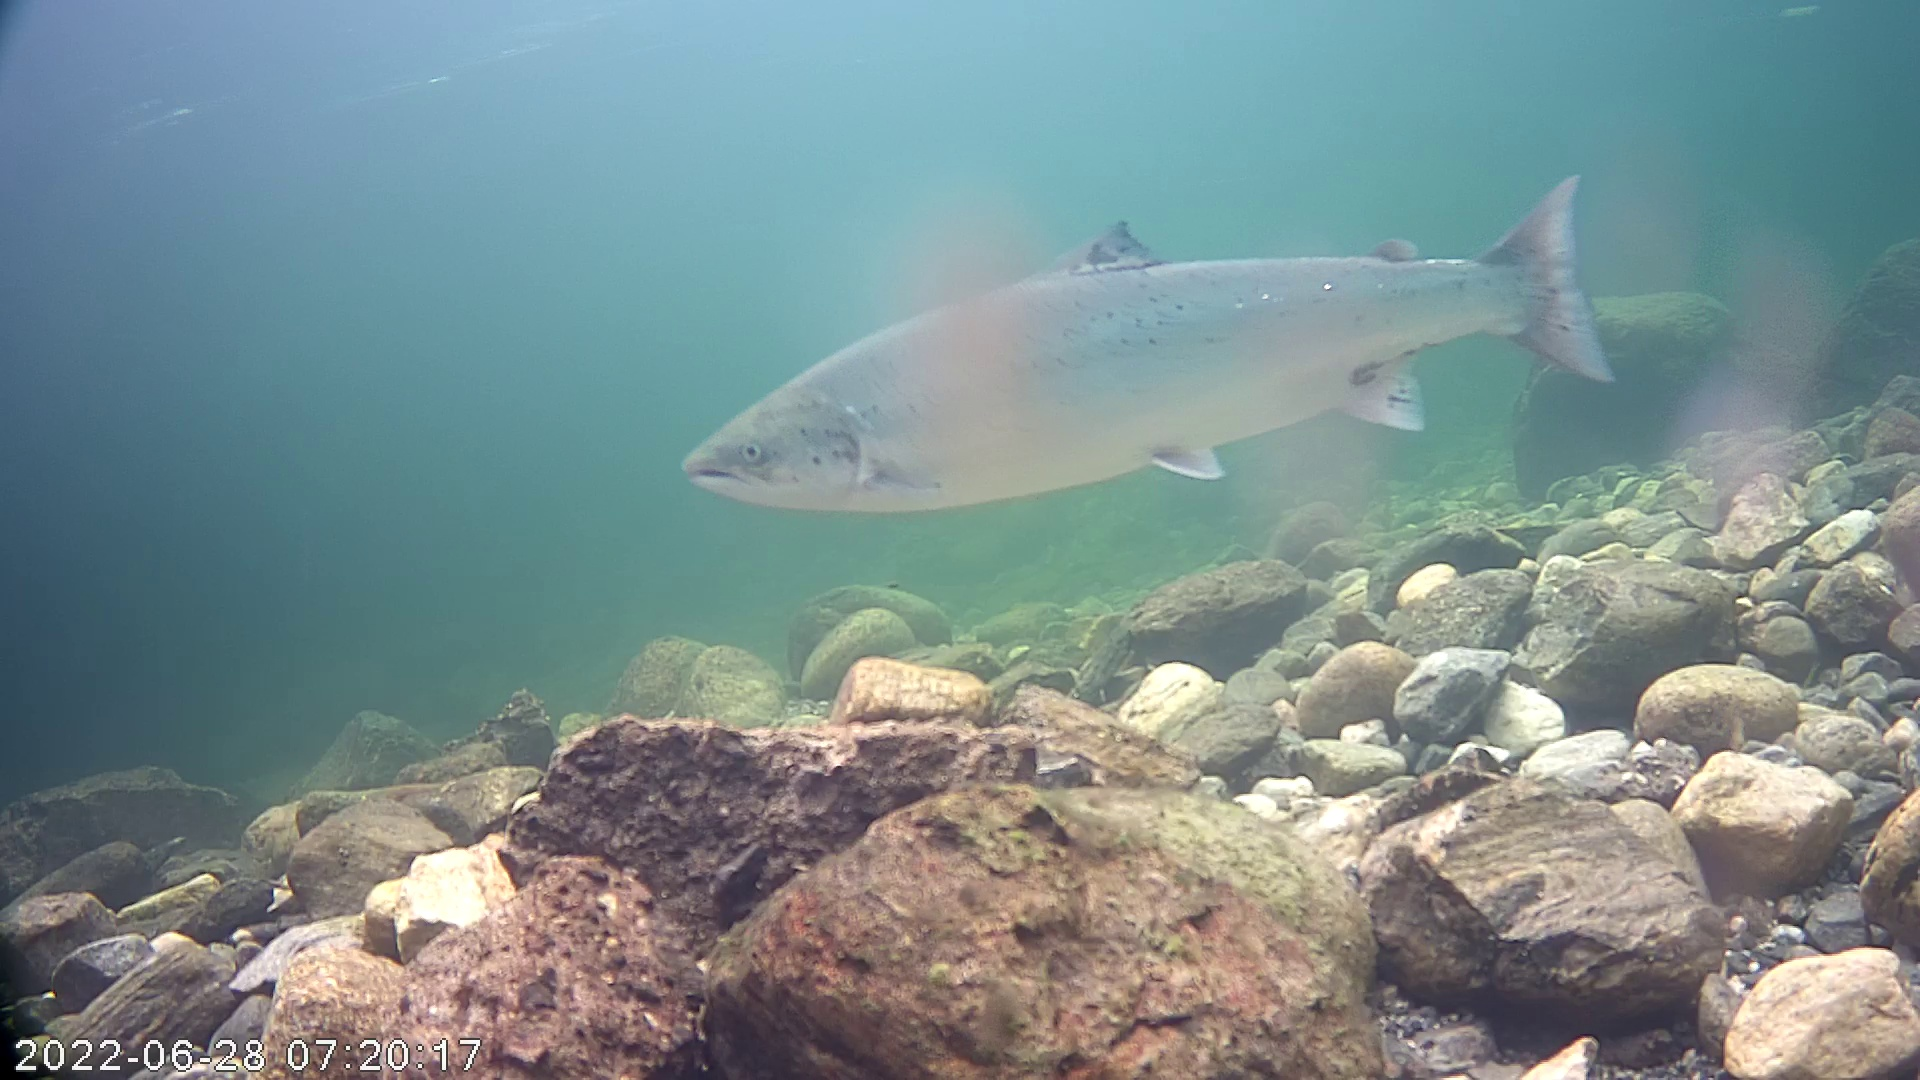salmon: (663, 128, 1646, 546)
